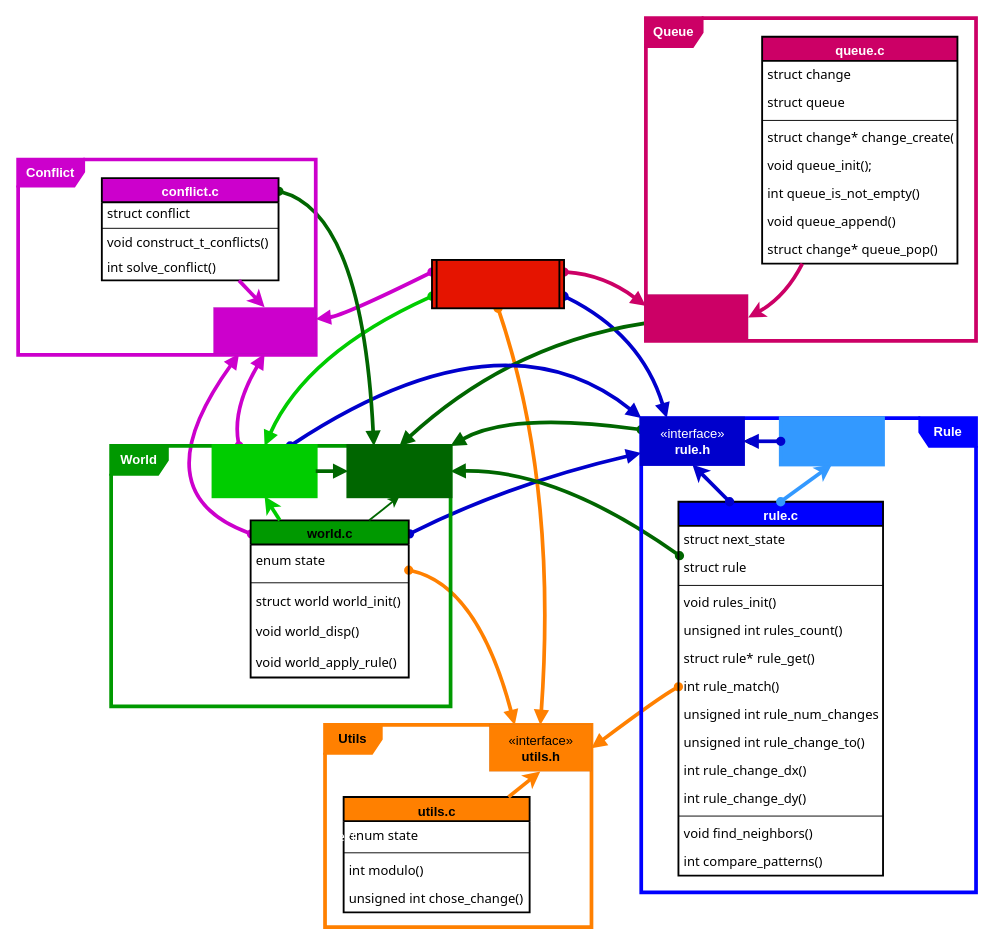
Image size: 993x945. Some labels were removed from this diagram. Each missing label, with the centre of its shape:
"project.c" goes at point 498,284.
"«interface» conflict.h" goes at point 264,330.
"«interface» queue.h" goes at point 696,317.
"«interface» rule_ext.h" goes at point 831,441.
"«interface» world.h" goes at point 399,471.
"«interface» world_ext.h" goes at point 264,471.
